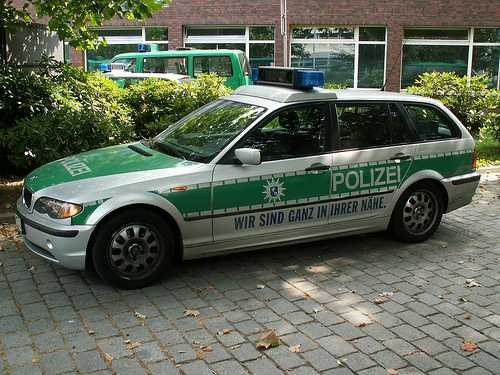Police Car: (39, 79, 475, 264)
